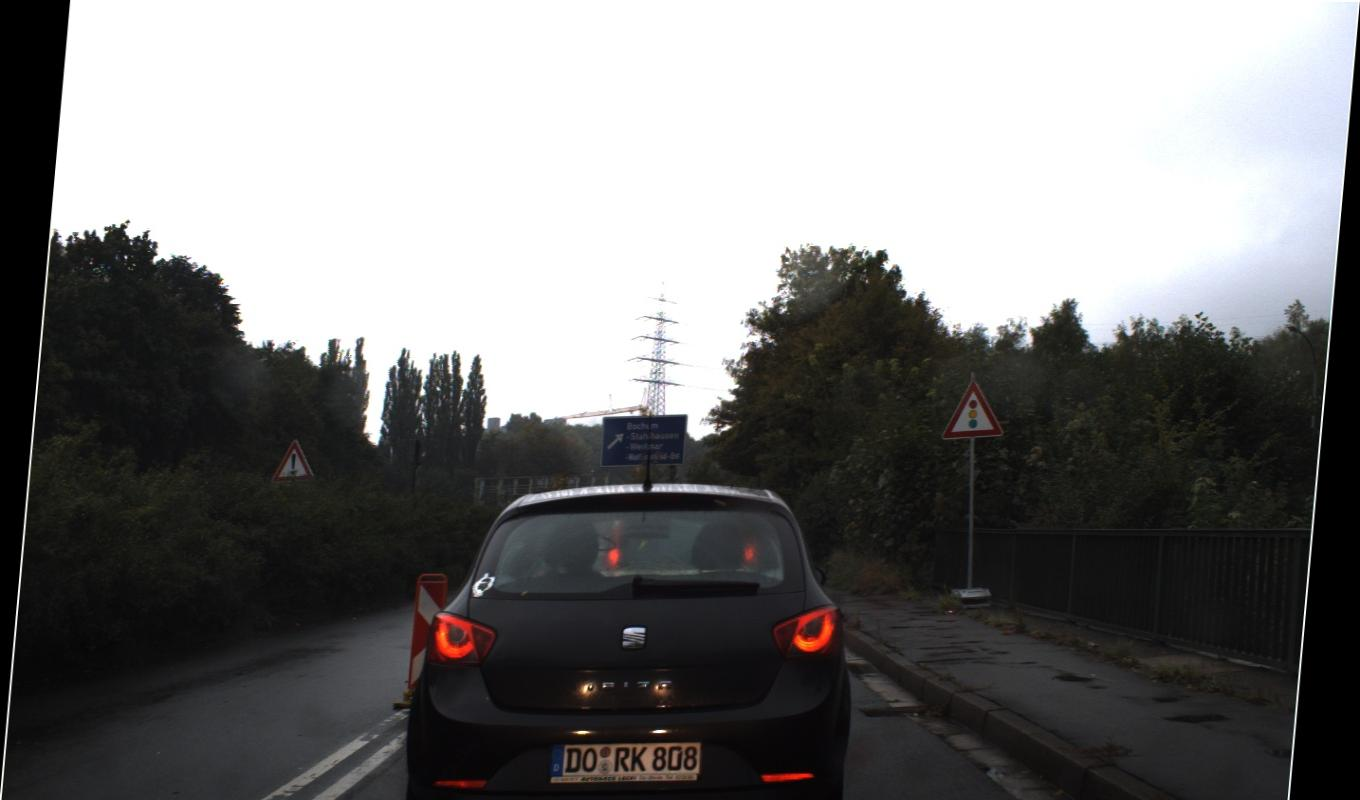danger: (270, 378, 1008, 484)
